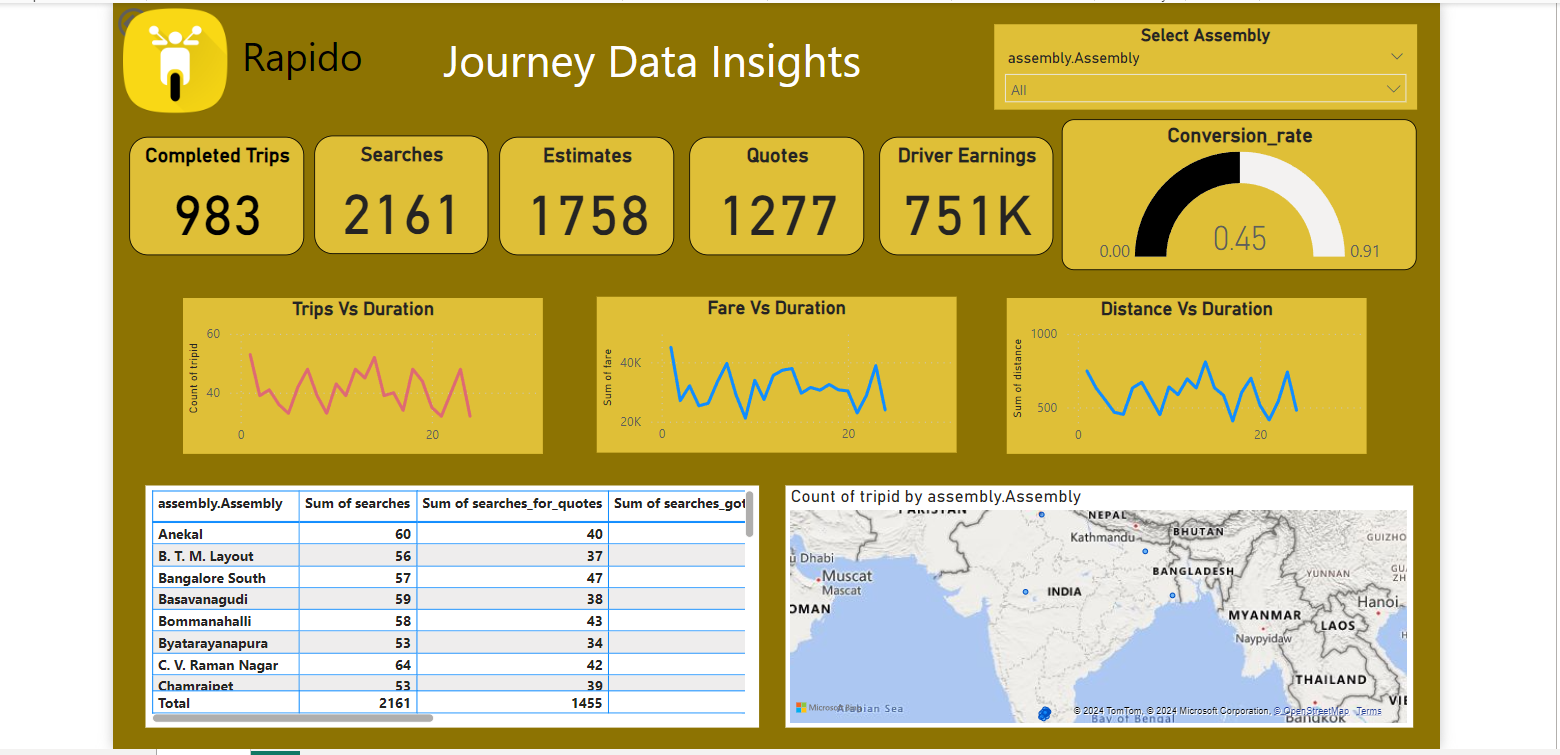

This screenshot's page, from the dashboard's own definition file:
{"tool":"powerbi","page":{"name":"Page 1","canvas":[1280,720],"ordinal":0},"visuals":[{"type":"card","title":"Completed Trips","fields":{"Values":["Sum(trip_details.end_ride)"]},"box":[15.7,129,168.8,114.6],"z":0},{"type":"card","title":"Quotes","fields":{"Values":["Sum(trip_details.searches_got_quotes)"]},"box":[556,129,168.8,114.6],"z":1000},{"type":"card","title":"Estimates","fields":{"Values":["Sum(trip_details.searches_got_estimate)"]},"box":[372.7,129,168.8,114.6],"z":2000},{"type":"card","title":"Searches","fields":{"Values":["Sum(trip_details.searches)"]},"box":[194.2,127.8,167.6,114.6],"z":3000},{"type":"card","title":"Driver Earnings","fields":{"Values":["Sum(trips.fare)"]},"box":[739.3,129,167.6,114.6],"z":4000},{"type":"gauge","fields":{"Y":["trip_details.Conversion_rate"]},"box":[915.4,112.2,342.5,145.9],"z":5000},{"type":"lineChart","title":"Trips Vs Duration","fields":{"Y":["CountNonNull(trip_details.tripid)"],"Category":["trips.duration"]},"box":[67.5,285,347.5,150],"z":6000},{"type":"lineChart","title":"Fare Vs Duration","fields":{"Y":["Sum(trips.fare)"],"Category":["trips.duration"]},"box":[466.7,283.4,347.3,150.8],"z":7000},{"type":"lineChart","title":"Distance Vs Duration","fields":{"Y":["Sum(trips.distance)"],"Category":["trips.duration"]},"box":[862.5,285,347.5,150],"z":8000},{"type":"tableEx","fields":{"Values":["Merge2.assembly.Assembly","Sum(Merge2.searches)","Sum(Merge2.searches_for_quotes)","Sum(Merge2.searches_got_estimate)","Sum(Merge2.searches_got_quotes)","Sum(Merge2.trips.fare)","Sum(Merge2.trips.distance)","trip_details.Conversion_rate"]},"box":[31.4,465.5,592.2,234],"z":9000},{"type":"actionButton","box":[0,0,100,40],"z":10000},{"type":"map","fields":{"Category":["Merge2.assembly.Assembly"]},"box":[648.8,465.5,605.4,234],"z":11000},{"type":"textbox","box":[119.4,20.6,134.5,91.9],"z":12000},{"type":"slicer","title":"Select Assembly","fields":{"Values":["Merge2.assembly.Assembly"]},"box":[850.3,20.5,407.6,82],"z":13000},{"type":"image","box":[0,0,119.4,112.5],"z":14000},{"type":"textbox","box":[266.2,20.6,507.7,91.9],"z":15000}]}

Visuals, with their boxes in screenshot pixels (x1, y1, x2, y2):
"Completed Trips" card: 126 134 301 252
"Quotes" card: 685 134 860 252
"Estimates" card: 495 134 670 252
"Searches" card: 311 132 484 251
"Driver Earnings" card: 875 134 1048 252
gauge - trip_details.Conversion_rate: 1057 116 1412 267
"Trips Vs Duration" lineChart: 180 295 539 450
"Fare Vs Duration" lineChart: 593 293 952 449
"Distance Vs Duration" lineChart: 1002 295 1362 450
tableEx - Merge2.assembly.Assembly x Sum(Merge2.searches): 142 482 755 724
actionButton: 110 0 213 41
map - Merge2.assembly.Assembly: 781 482 1408 724
textbox: 233 21 372 116
"Select Assembly" slicer: 990 21 1412 106
image: 110 0 233 116
textbox: 385 21 911 116
